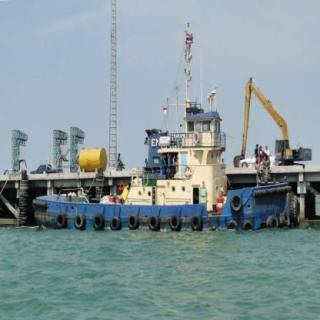Tug Boat: (23, 16, 294, 232)
